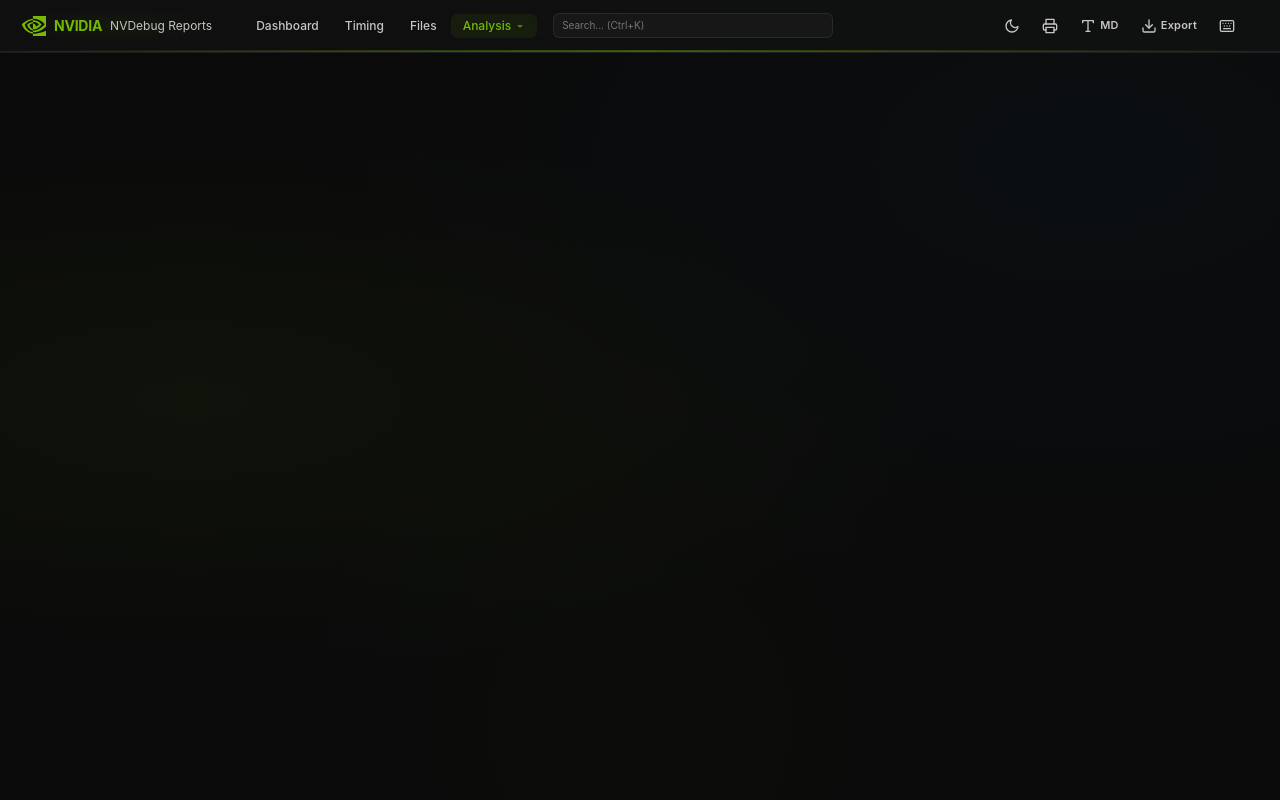
Scenario: resource navigation › exposes Resource Usage in the desktop Analysis menu
This screenshot has width=1280, height=800.
Click the button "Analysis": x=494, y=26 [451,14,537,38]
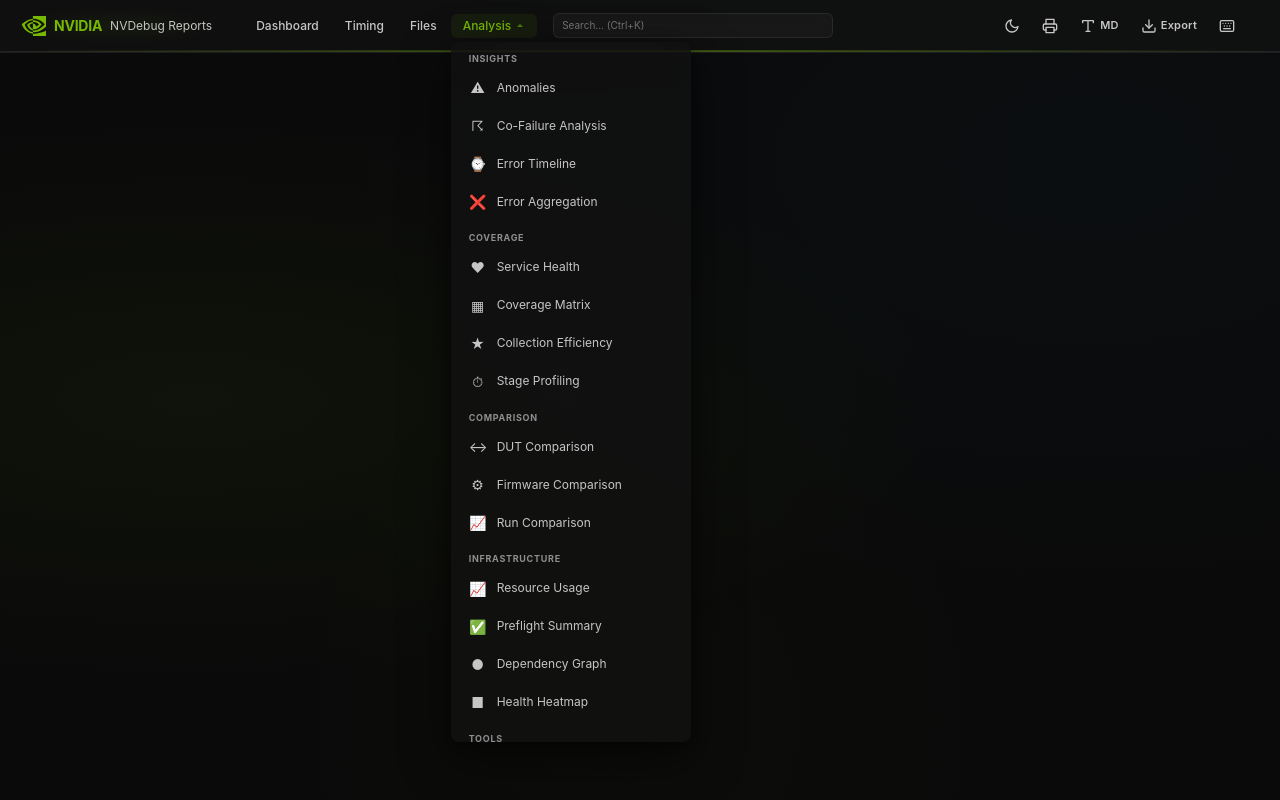
Check: the text "Resource Usage" is shown, box [469,580,590,596]
